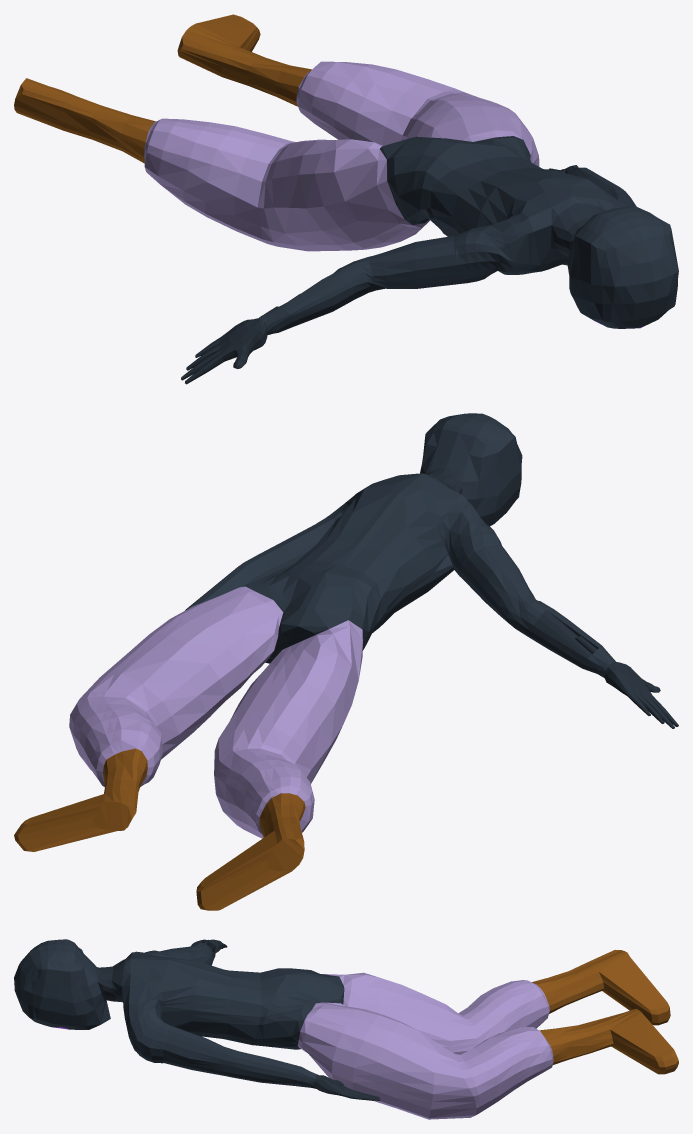
Rendered from Oracle_Die_000012.obj.
3 renders of one model, top to bottom at view 1: azimuth 30°, elevation 25°; view 2: azimuth 150°, elevation 25°; view 3: azimuth 270°, elevation 25°, orthographic. The views are drawn at different scales.
Parts seen in each view (by area): view 1: Cube; view 2: Cube; view 3: Cube.
Part boxes in pixels (x1,y1,x2,y2): Cube: [14, 14, 678, 384]; Cube: [14, 413, 678, 910]; Cube: [14, 939, 678, 1119].
Bounding box in the file's own units: 2.28 × 1.01 × 3.87.
